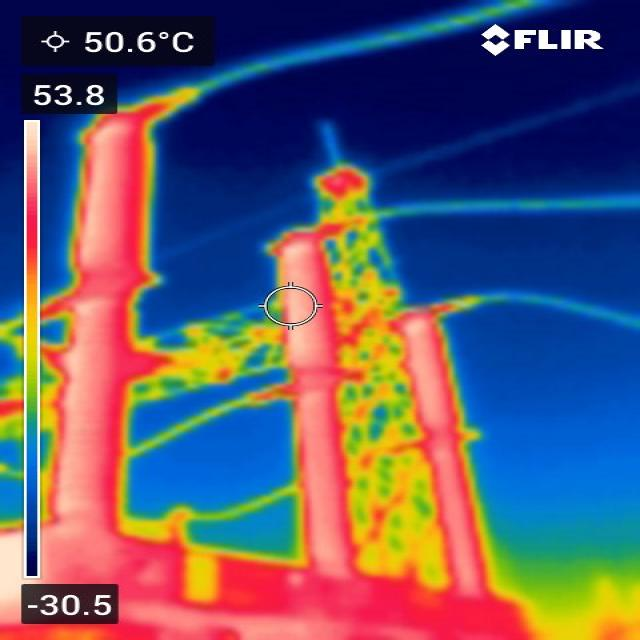Zona_Critica: (220, 556, 521, 639), (122, 539, 180, 602)
Zona_Extrema: (49, 119, 139, 575), (399, 315, 489, 596), (284, 240, 350, 575), (120, 603, 340, 639)
